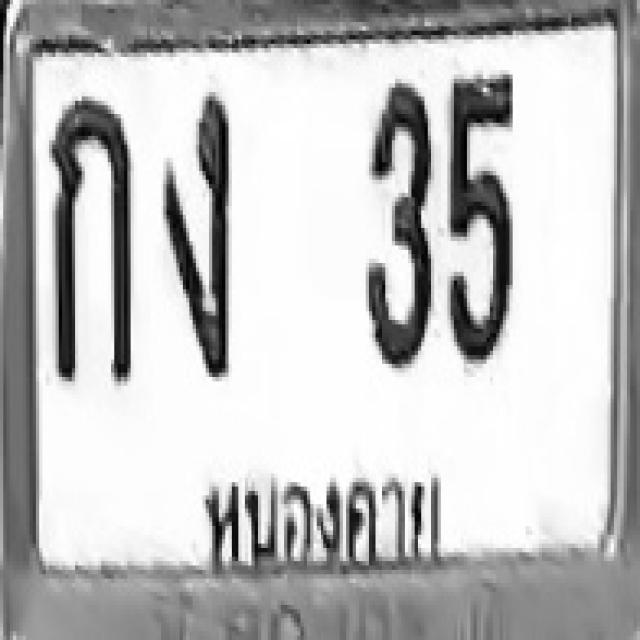10GorGai: (48, 96, 132, 382)
16NgorNgu: (160, 88, 232, 368), (160, 88, 232, 338), (160, 88, 232, 302)
3: (360, 79, 432, 364)
5: (446, 70, 514, 364), (447, 70, 513, 250)
NongKhai: (186, 453, 452, 586)
